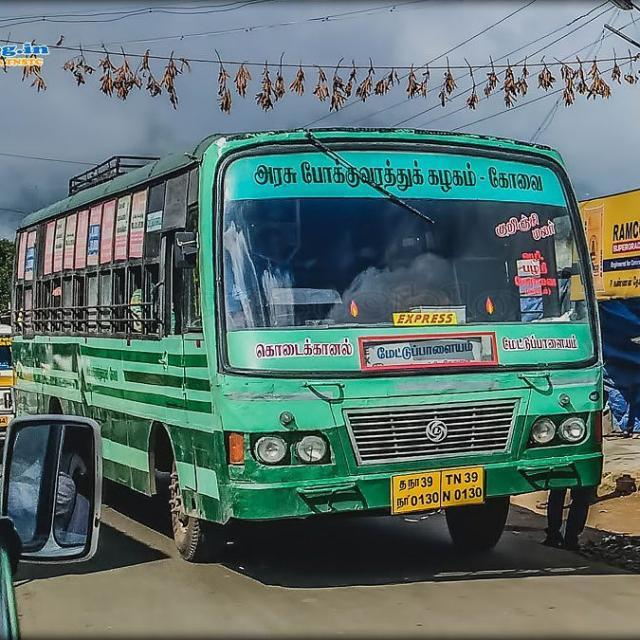Bus: (8, 125, 610, 566)
